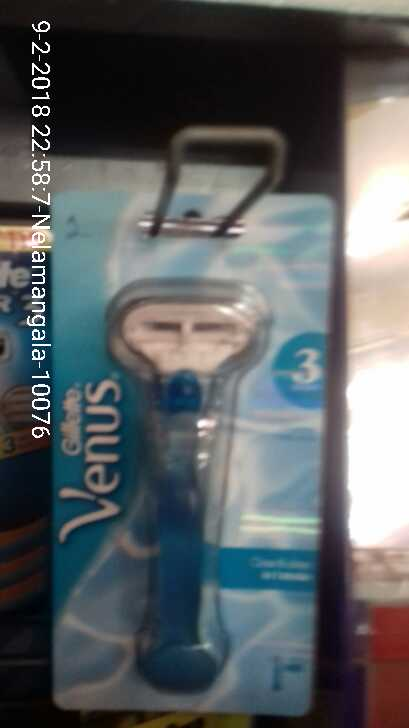venus: (53, 191, 321, 709)
